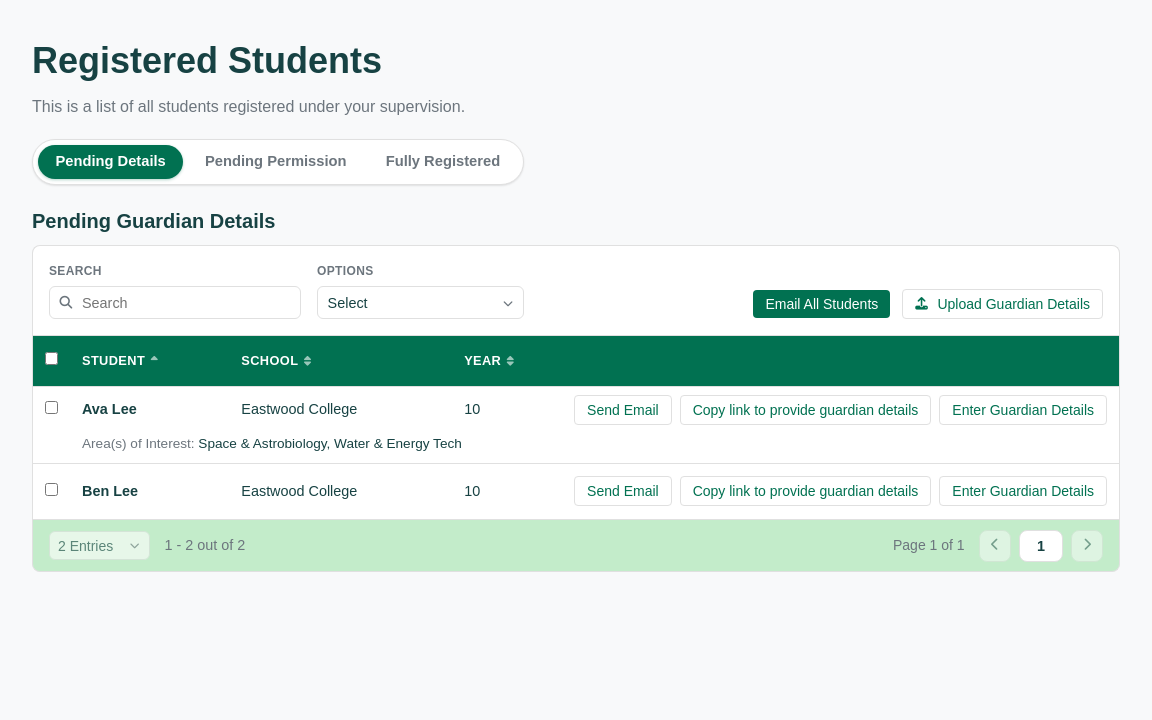
Test case: SupervisorStudentsPage › lists a supervisor's students by where their registration is
Expected: the text "This is a list of all students registered under your supervision." is shown, [32, 98, 465, 115]
Expected: the heading with class "subheading" reads "Pending Guardian Details", [32, 210, 275, 232]
Click the tab "Pending Permission".
click(276, 162)  # box [187, 145, 364, 179]
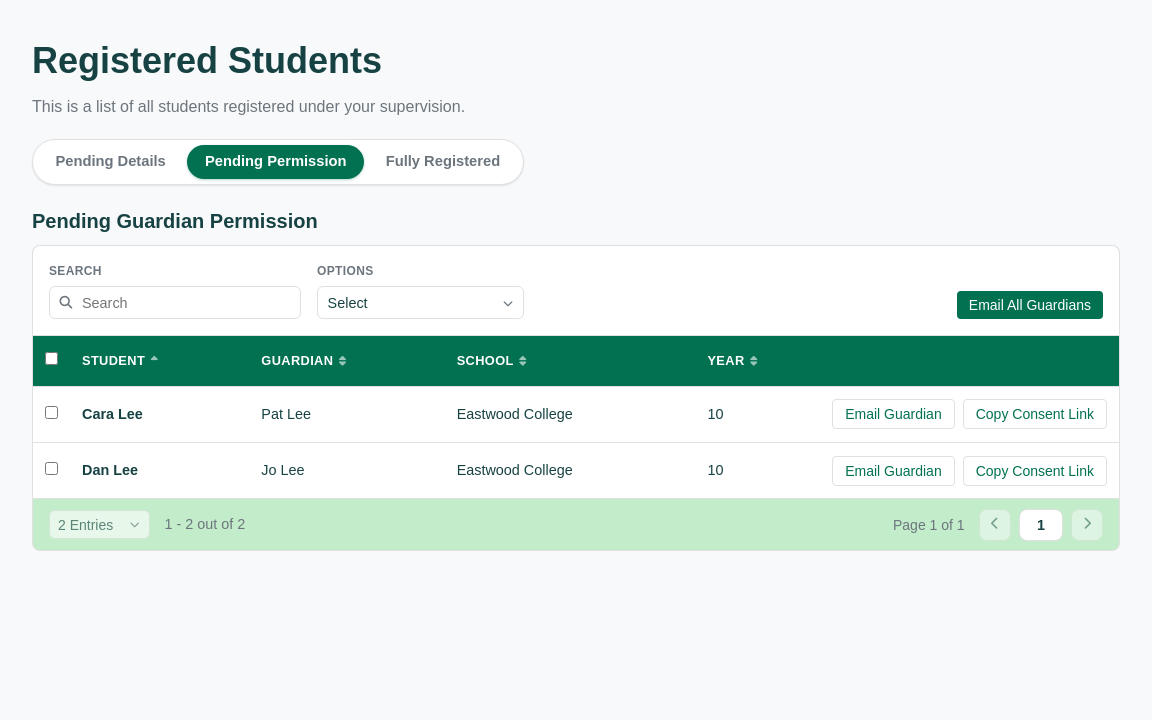
Expected: the heading with class "subheading" reads "Pending Guardian Permission", [32, 210, 318, 232]
Expected: the text "Cara Lee" is shown, [82, 403, 143, 426]
Expected: the text "Pat Lee" is shown, [261, 403, 311, 426]
Click the tab "Fully Registered".
click(443, 162)  # box [368, 145, 518, 179]
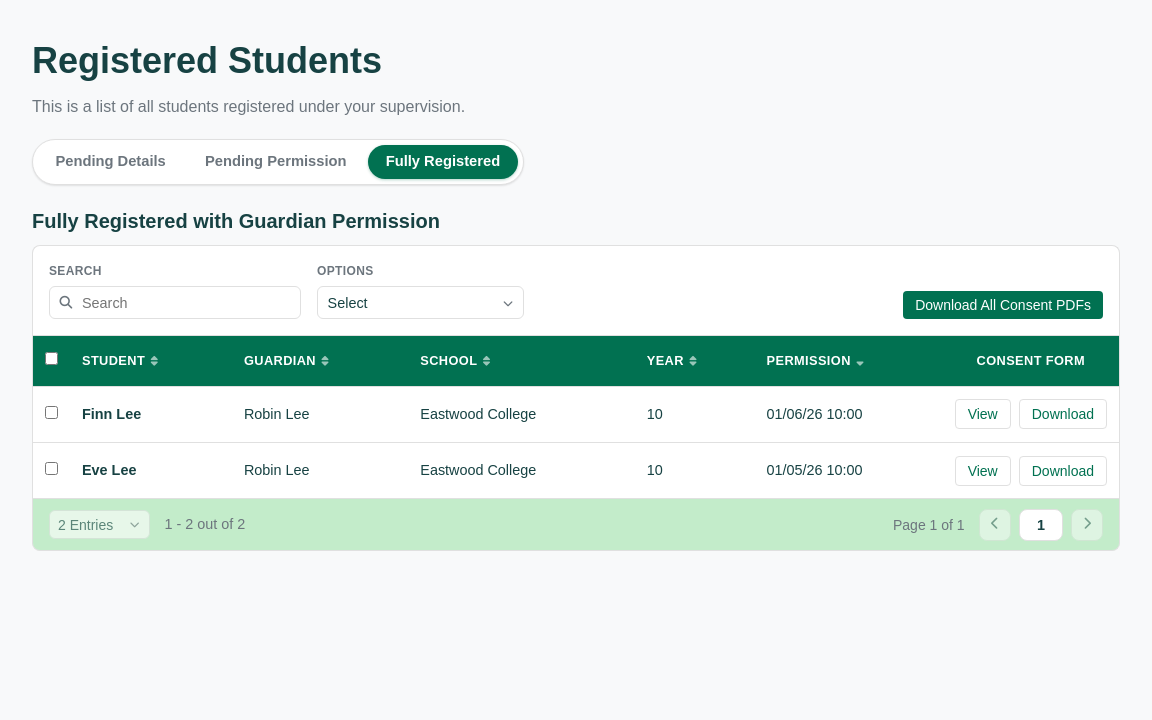
Expected: the heading with class "subheading" reads "Fully Registered with Guardian Permission", [32, 210, 440, 232]
Expected: the elements with class "supervisor-name-btn" read "Finn Lee", "Eve Lee", in this order, [82, 403, 141, 426]; [82, 459, 136, 482]
